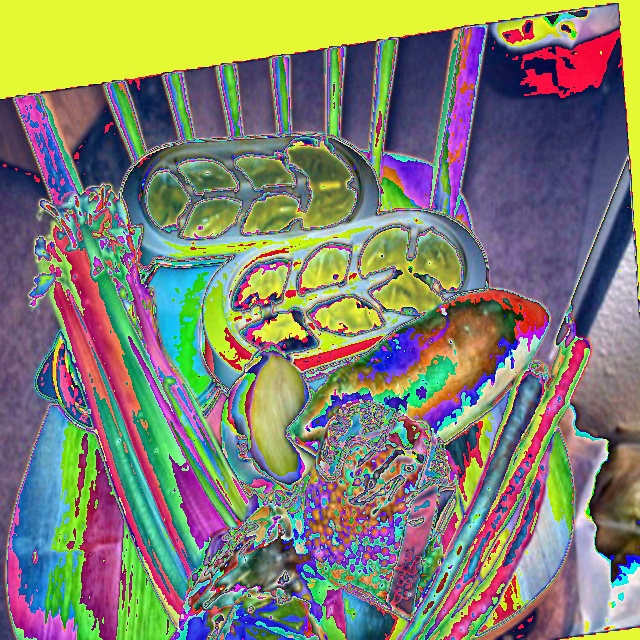background: (25, 181, 591, 639), (80, 45, 384, 337), (58, 56, 352, 296), (64, 47, 242, 242), (126, 103, 358, 236), (62, 38, 238, 195), (48, 66, 191, 234)
